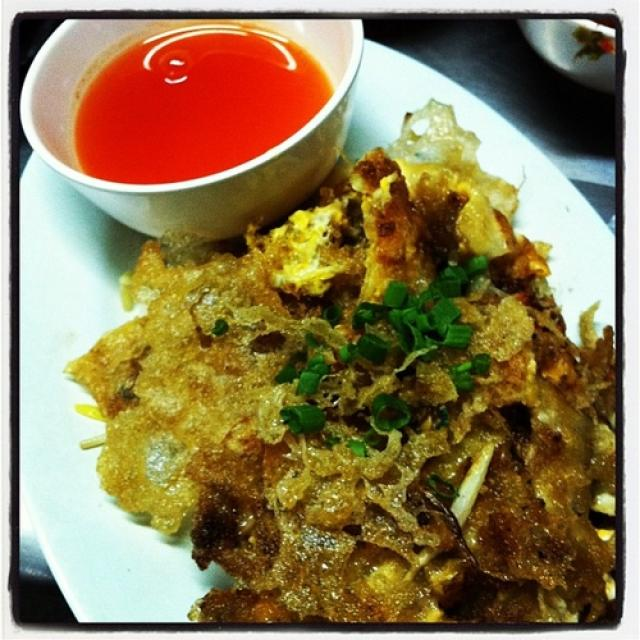炸货点心: (50, 183, 605, 621)
蛋糕甜品: (50, 183, 605, 621)
